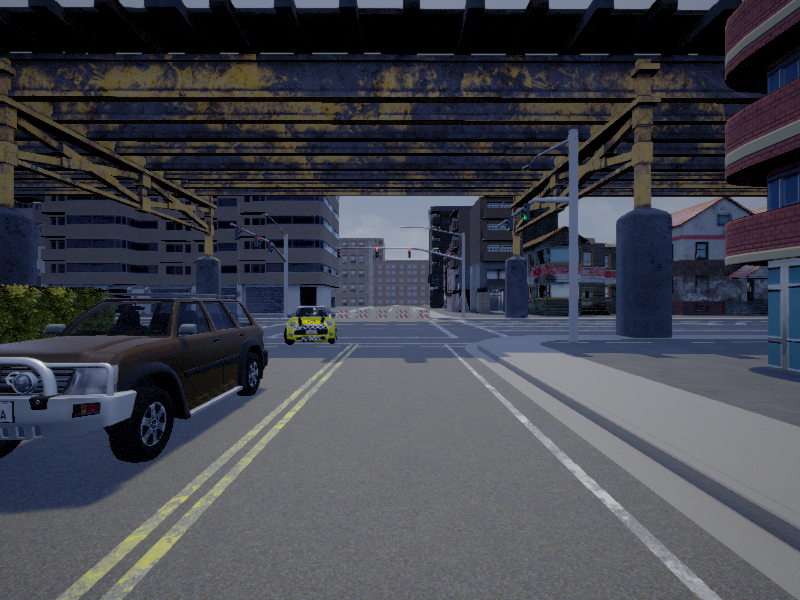Benign: (1, 297, 264, 464), (282, 306, 340, 345)
